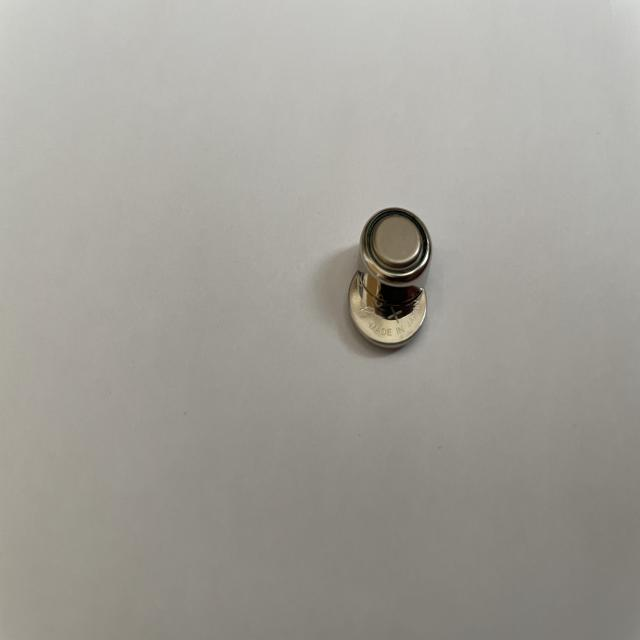COIN: (359, 206, 432, 302), (348, 270, 426, 354)
